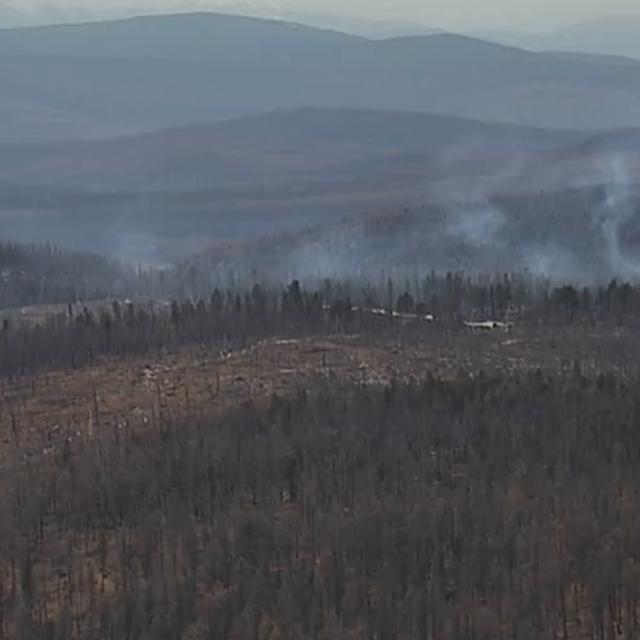Smoke: (0, 139, 640, 327)
